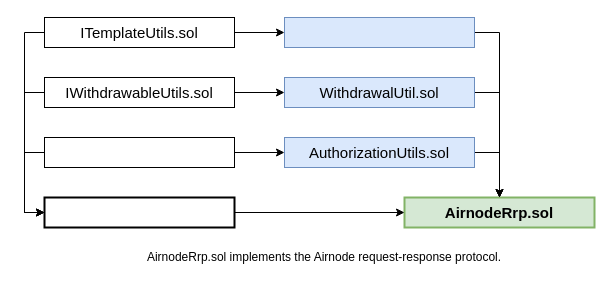
Image size: 613x285. Some labels were removed from this diagram. Here are the shapes that lost their labels. From the top down, the centre of each, then its label:
point 379,32: TemplateUtils.sol
point 139,152: IAuthorizationUtils.sol
point 139,212: IAirnodeRrp.sol
